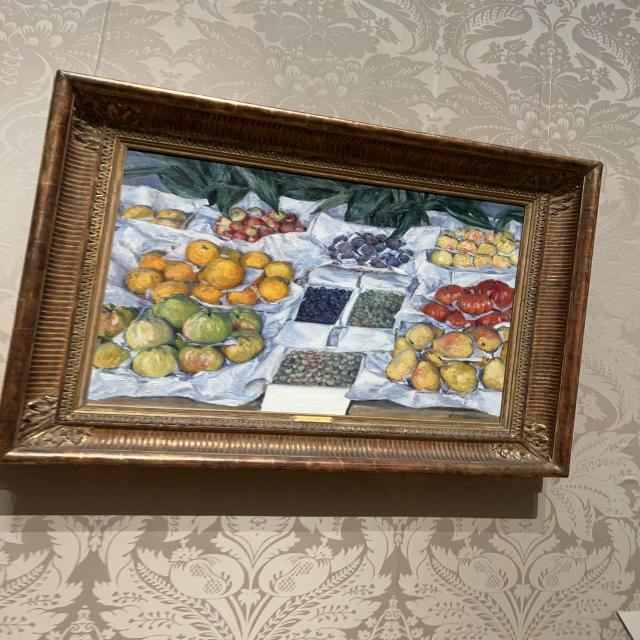fruits: (89, 154, 514, 416)
